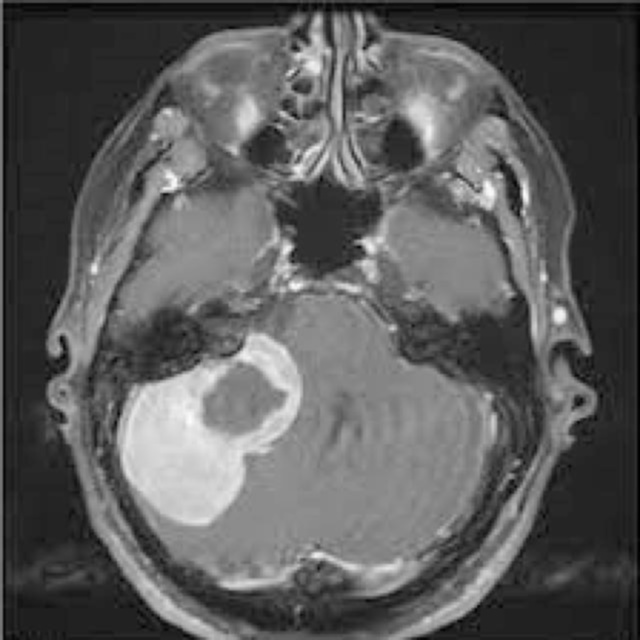meningioma tumor: (114, 321, 314, 535)
